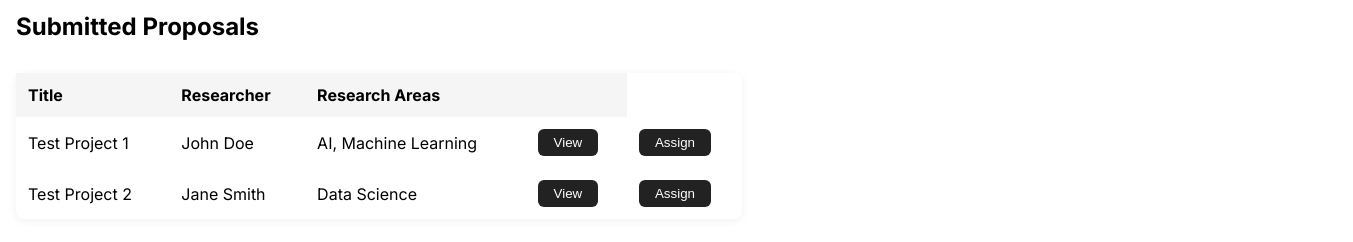
Test case: SubmittedProposalsPage › handles proposal selection and displays details
Expected: the text "Test Project 1" is shown, left=16, top=117, right=169, bottom=168
# Click the view button for the first proposal
Click the button "View" in the row of "Test Project 1". click: coordinates (568, 142)
box: left=538, top=129, right=598, bottom=156
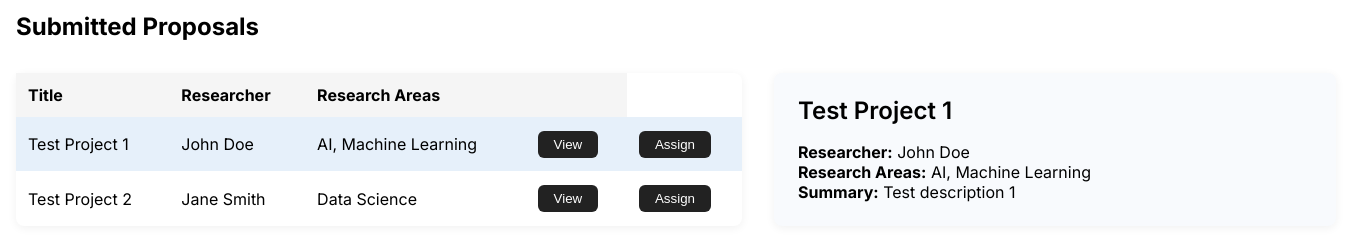
Expected: the element with test id "proposal-details" is shown, left=774, top=73, right=1336, bottom=226
Expected: the element with test id "proposal-details" shows "Test Project 1", left=798, top=96, right=952, bottom=125
Expected: the element with test id "proposal-details" shows "John Doe", left=897, top=142, right=970, bottom=162
